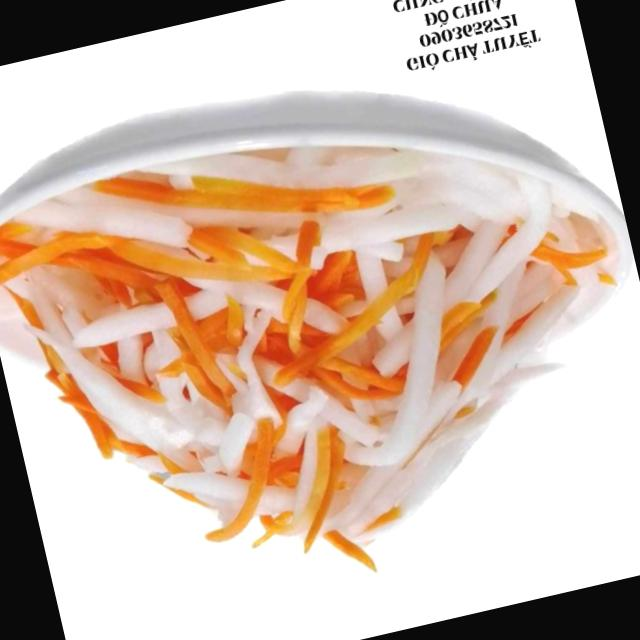do chua: (0, 145, 614, 571)
